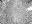person: (24, 6, 31, 11)
